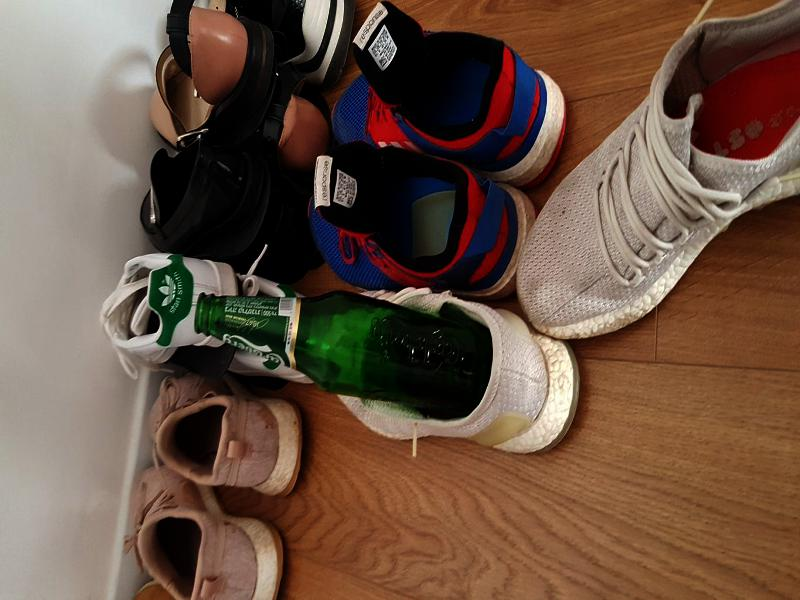Beer: (198, 289, 491, 415)
